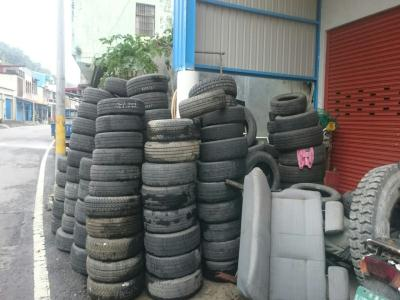tire: (142, 220, 200, 258), (146, 268, 204, 298), (144, 248, 202, 278), (141, 159, 198, 188), (140, 181, 197, 210), (141, 204, 198, 233), (86, 234, 142, 262), (177, 88, 227, 119), (86, 255, 142, 282), (269, 125, 324, 152), (86, 274, 143, 300), (190, 73, 241, 101), (86, 214, 139, 240), (145, 117, 195, 142), (266, 109, 320, 132), (198, 136, 249, 160), (197, 157, 248, 181), (94, 113, 146, 136), (86, 195, 139, 217), (91, 147, 146, 168), (125, 72, 170, 97), (95, 96, 147, 116), (89, 162, 142, 181), (87, 178, 140, 197), (269, 91, 309, 116), (93, 132, 148, 150), (279, 163, 326, 183)
